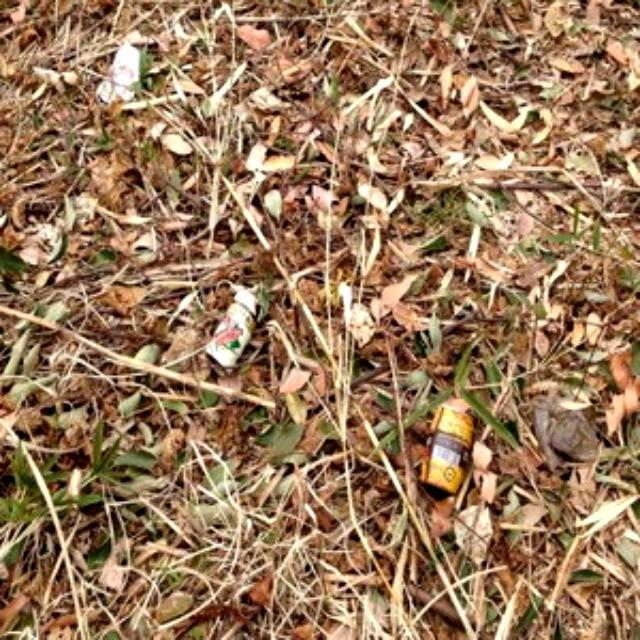Metal: (416, 398, 478, 498), (204, 292, 256, 378), (91, 36, 140, 102)
